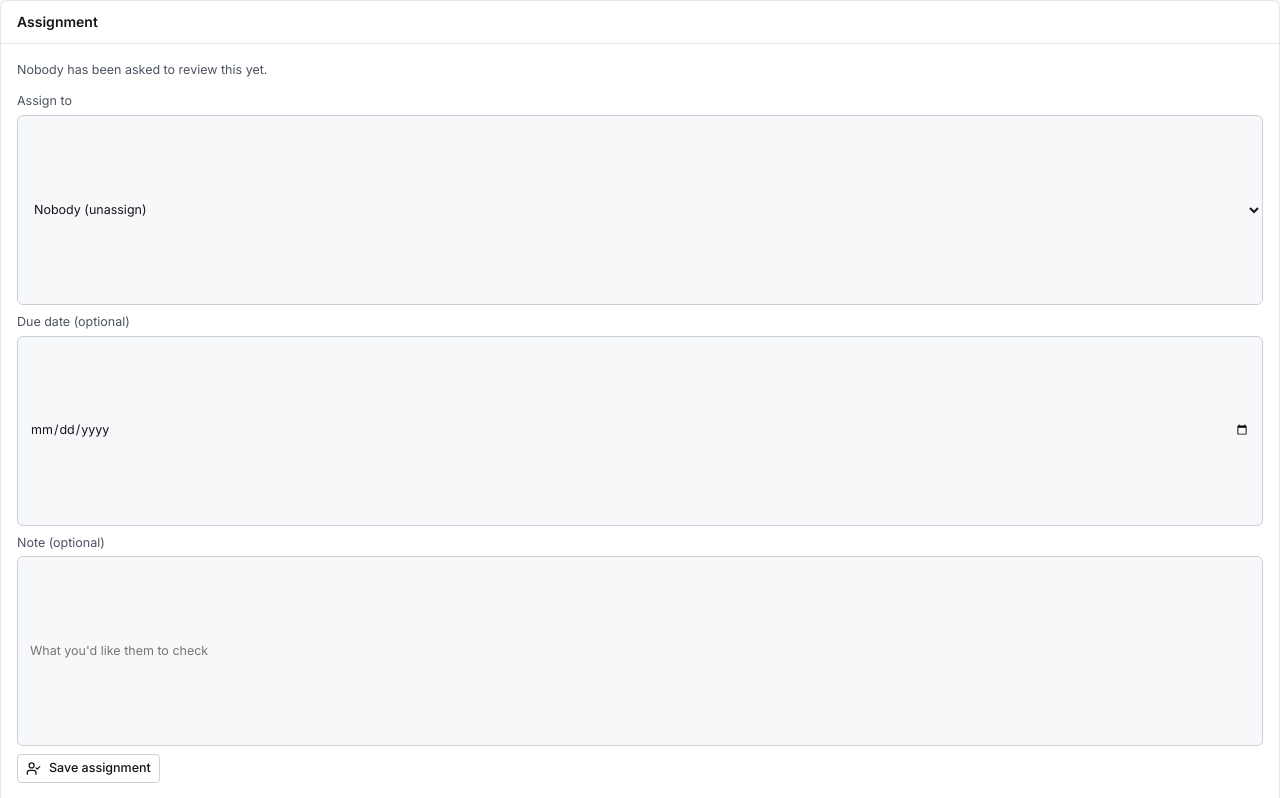
AssignmentPanel › explains a refusal to assign someone who cannot see the project
The image size is (1280, 798).
Step 1. Select "colleague@example.com" in the dropdown labelled "Assign to" → [640, 210], box [17,115,1263,305]
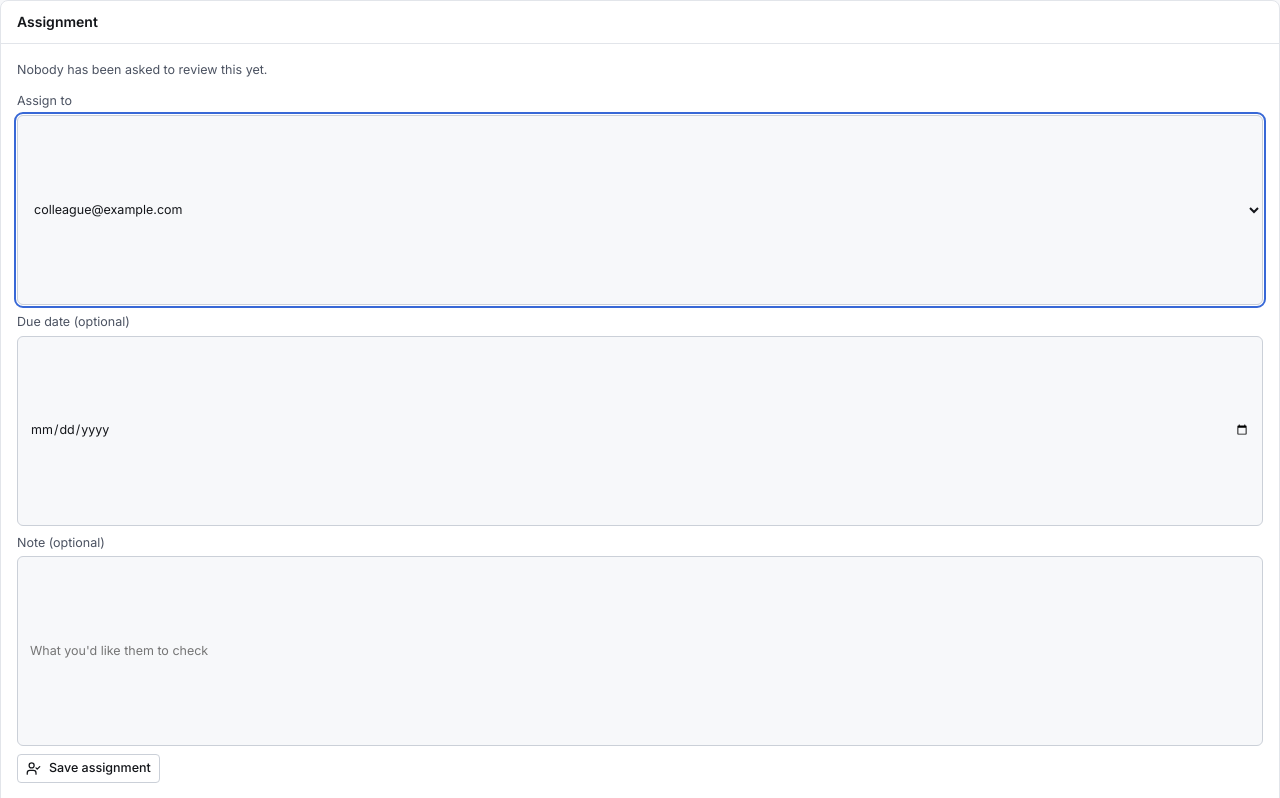
Step 2. Click the button "Save assignment" → [88, 769], box [17,754,160,783]
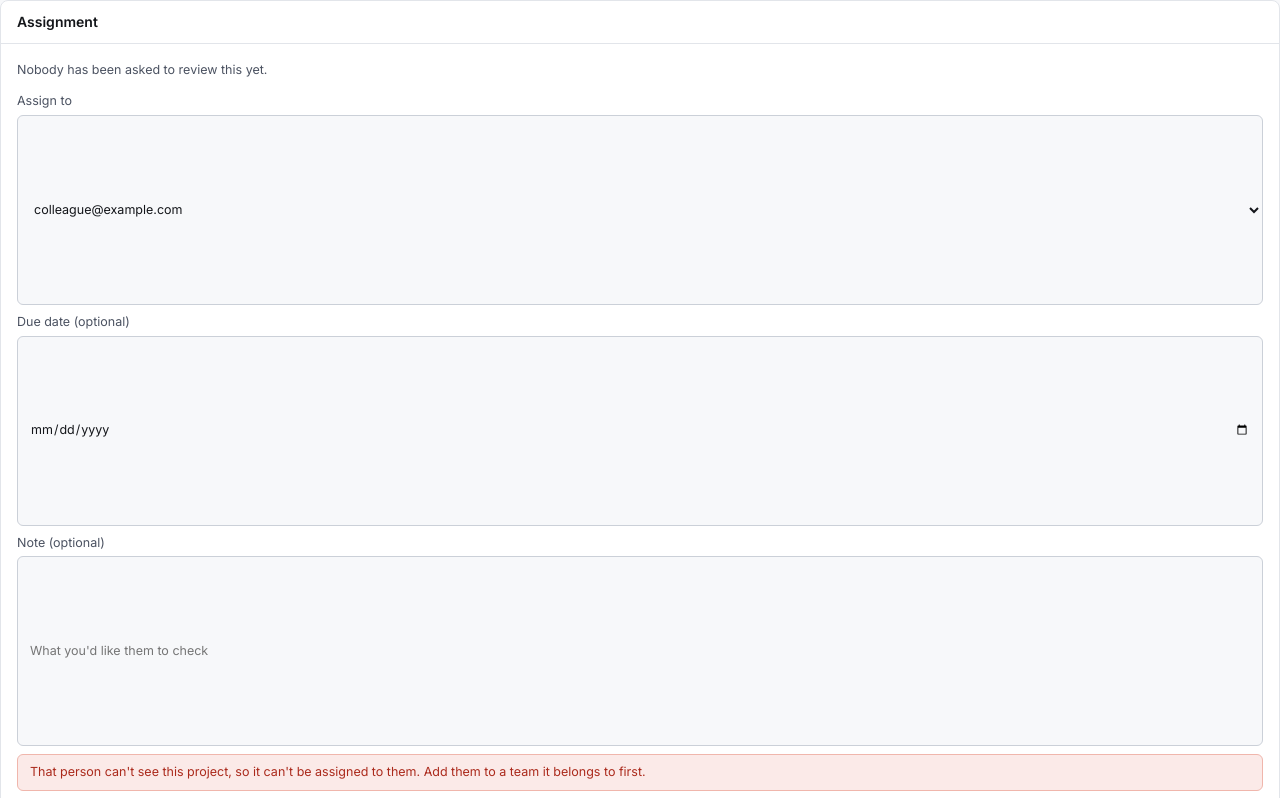
Expected: the message shows "can't see this project", [30,764,646,779]
